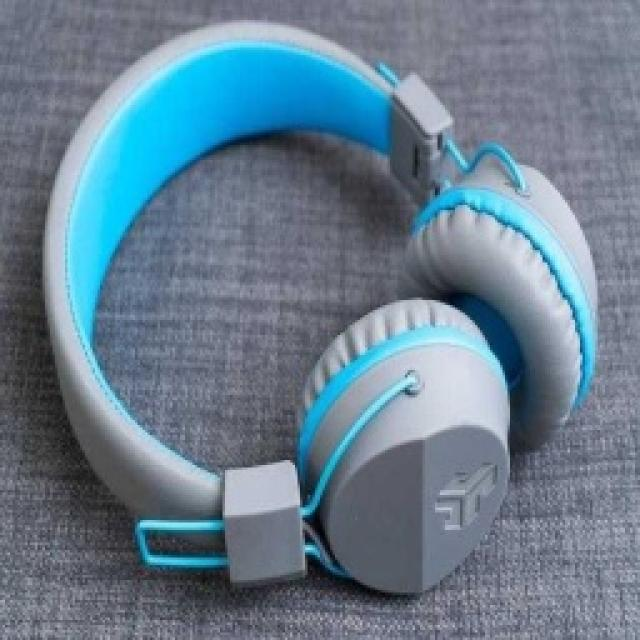headphones: (40, 17, 600, 595)
